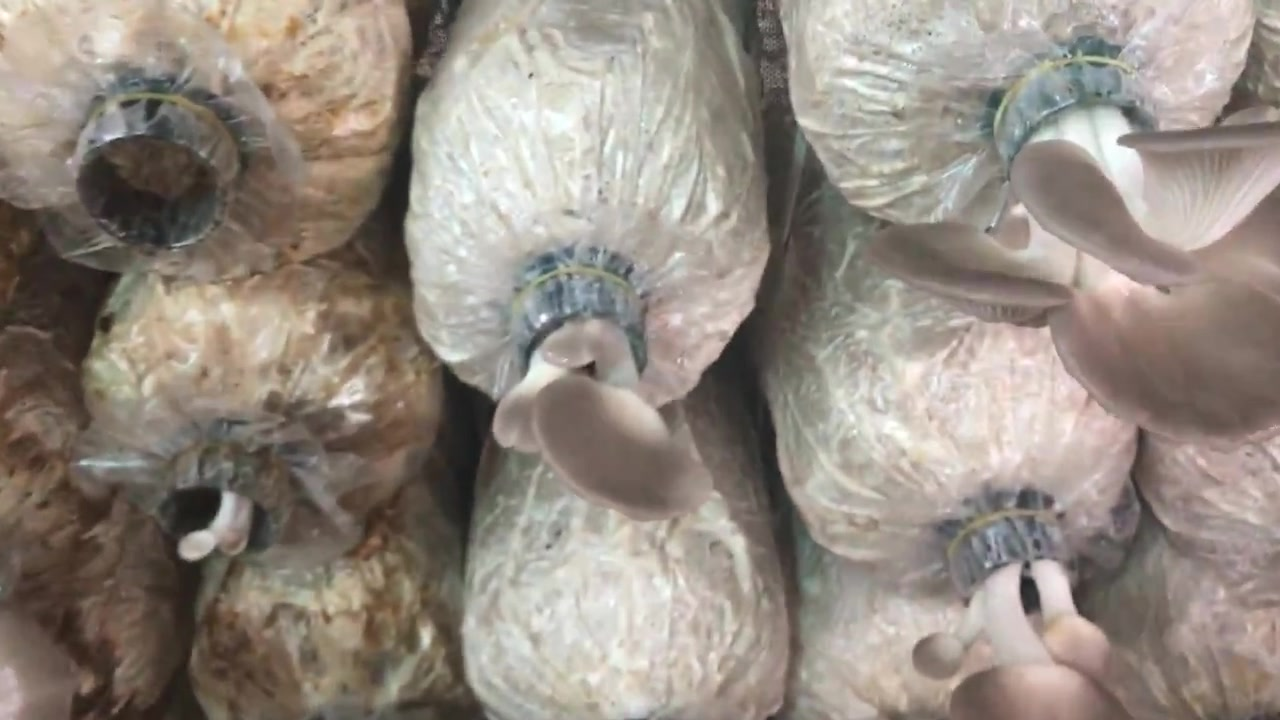nam: (863, 53, 1280, 451), (492, 256, 717, 521), (911, 512, 1124, 720), (149, 446, 292, 577)
